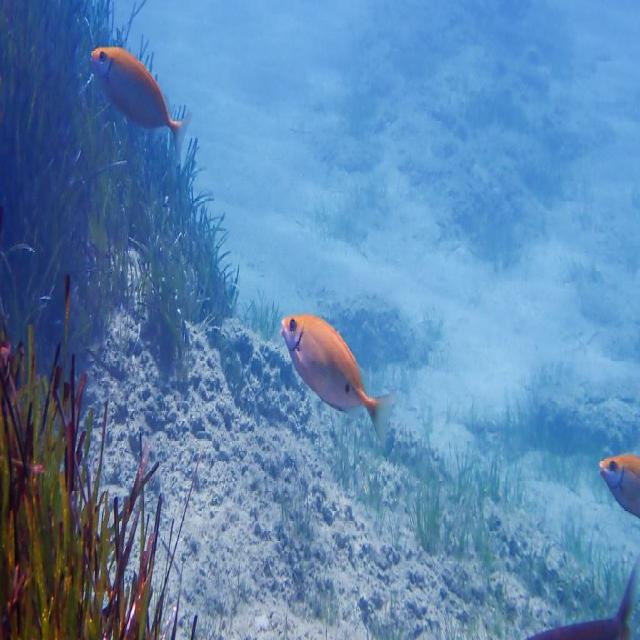Sokar Baligi: (277, 300, 408, 465), (85, 30, 194, 165)
